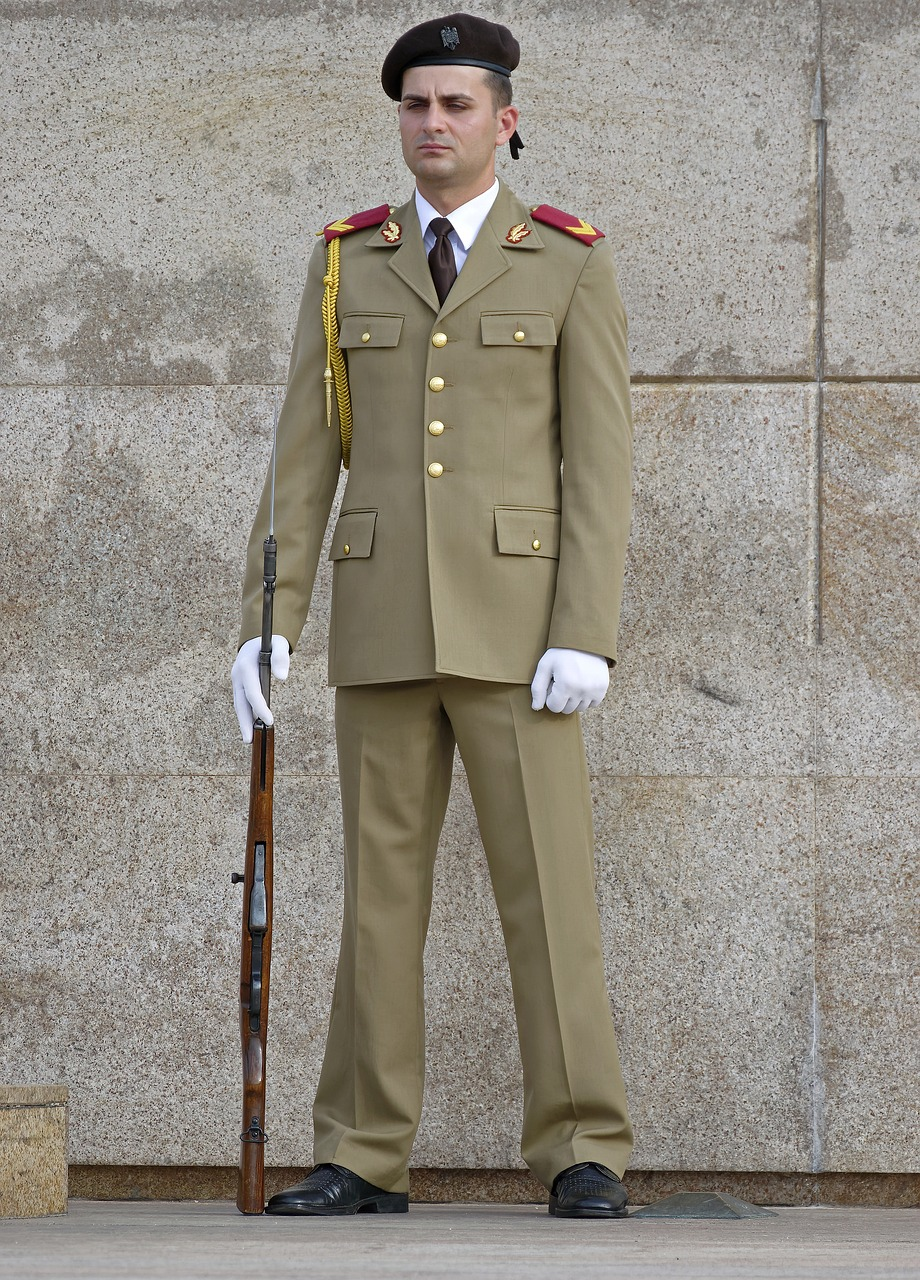gun: (230, 423, 284, 1223)
